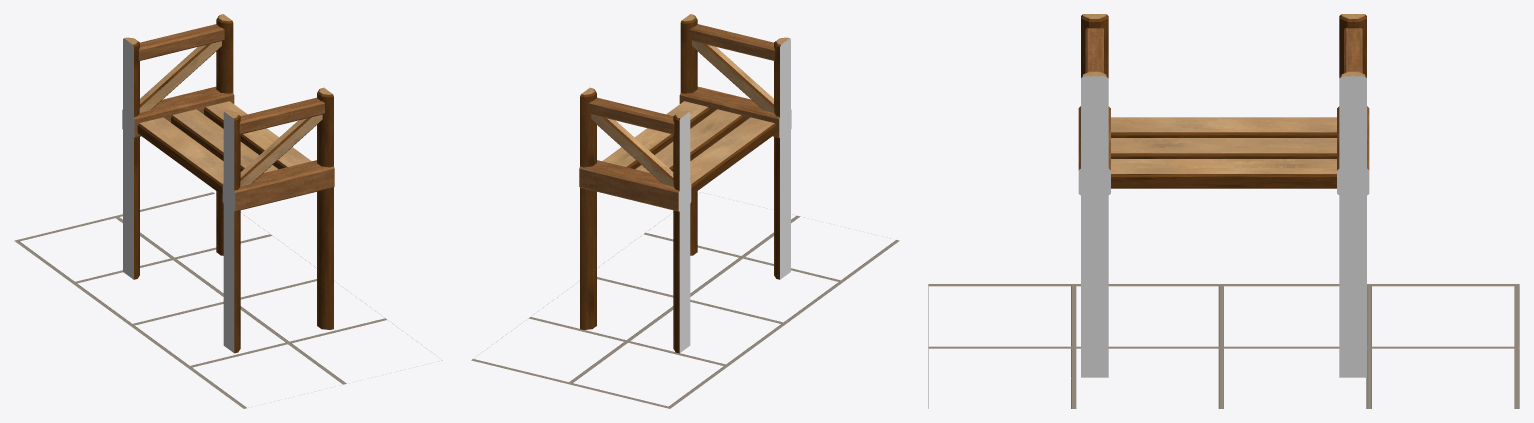
The model's file is Prop_Bridge_Center_1x2.glb.
The picture shows the model from 3 angles, left to right: view 1: azimuth 30°, elevation 25°; view 2: azimuth 150°, elevation 25°; view 3: azimuth 270°, elevation 25°; orthographic projection. The views are drawn at different scales.
Parts seen in each view (by area): view 1: Prop_Bridge_Center_1x2, Floor; view 2: Prop_Bridge_Center_1x2, Floor; view 3: Prop_Bridge_Center_1x2, Floor.
Part boxes in pixels (x1,y1,x2,y2): Prop_Bridge_Center_1x2: (122, 14, 334, 353); Floor: (14, 192, 442, 408); Prop_Bridge_Center_1x2: (579, 14, 791, 353); Floor: (471, 192, 899, 408); Prop_Bridge_Center_1x2: (1078, 14, 1369, 377); Floor: (928, 284, 1519, 408).
Bounding box in the file's own units: 200 × 225 × 400.
6 materials, 5 textured.
